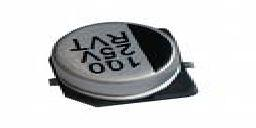Electrolytic-Capacitor: (47, 16, 207, 111)
